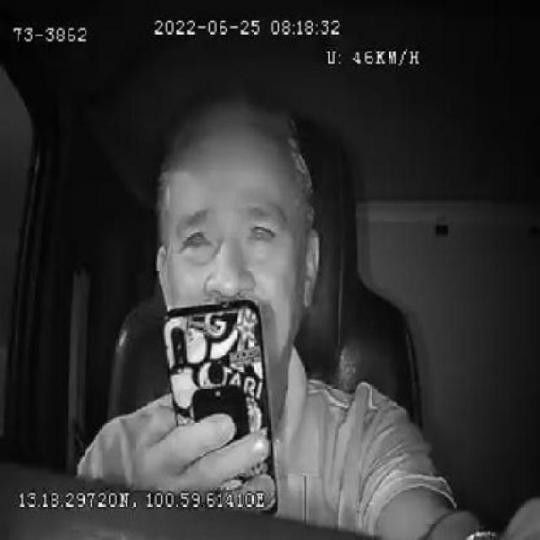phone: (162, 300, 277, 490)
